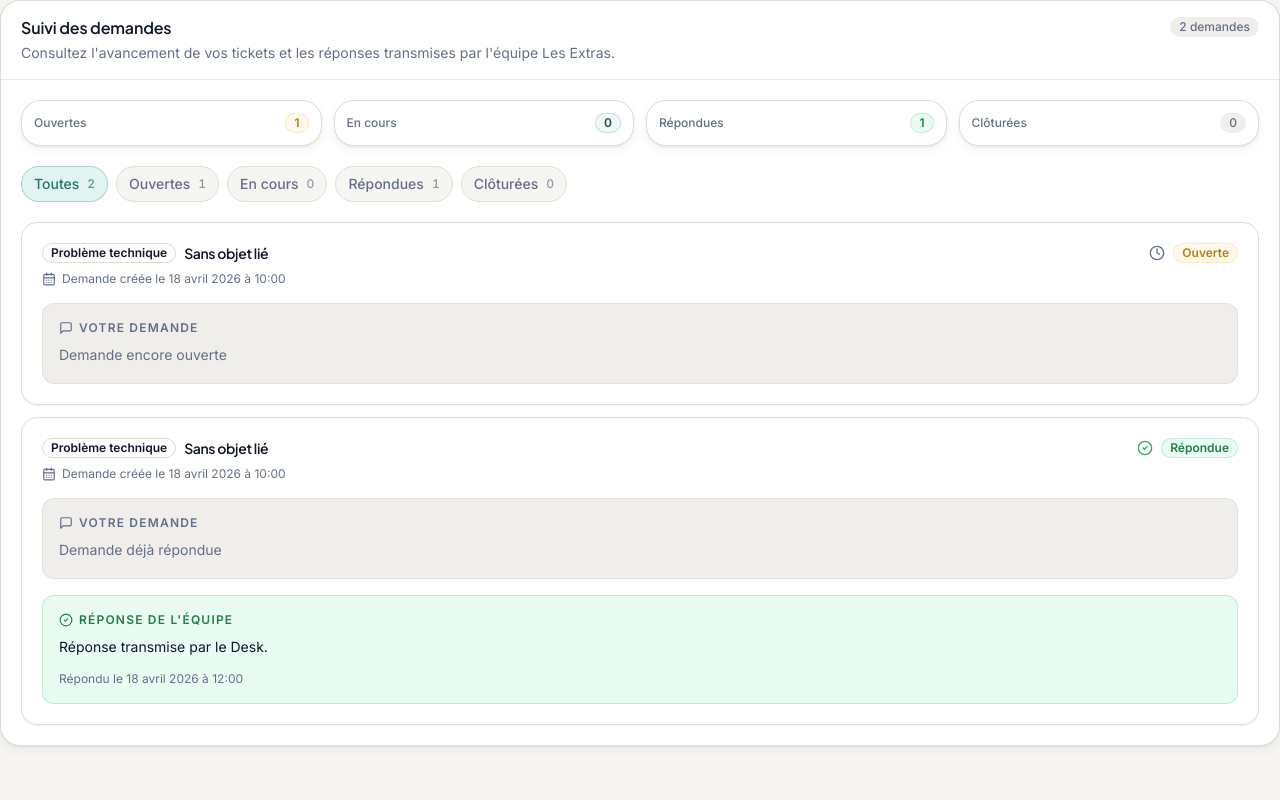
Test: DeskRequestsClient › filtre les demandes par statut
Expected: the text "Demande encore ouverte" is shown, x1=59 y1=346 x2=227 y2=363
Expected: the text "Demande déjà répondue" is shown, x1=59 y1=541 x2=222 y2=558
Click the button "Répondues 1".
click(394, 184)  # box x1=335 y1=166 x2=453 y2=202
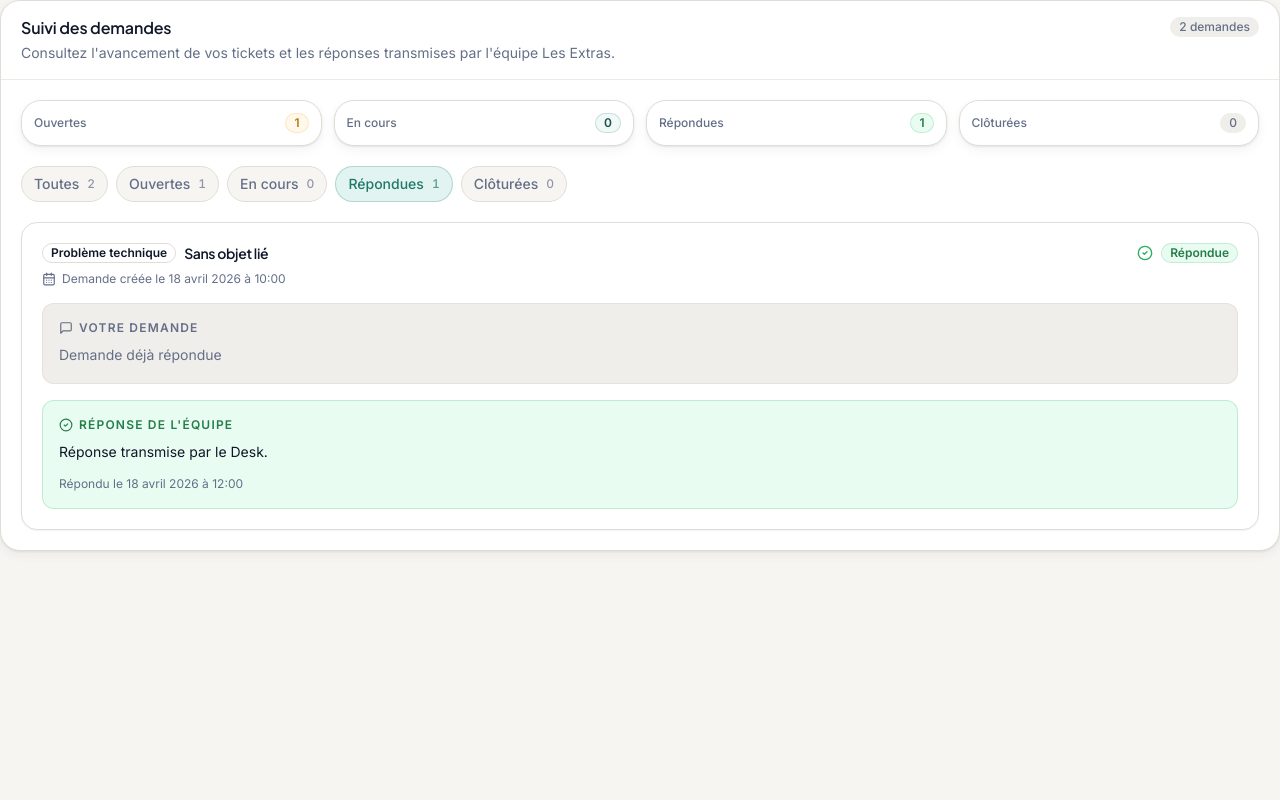
Expected: the text "Demande déjà répondue" is shown, x1=59 y1=346 x2=222 y2=363
Expected: the text "Demande encore ouverte" is gone
